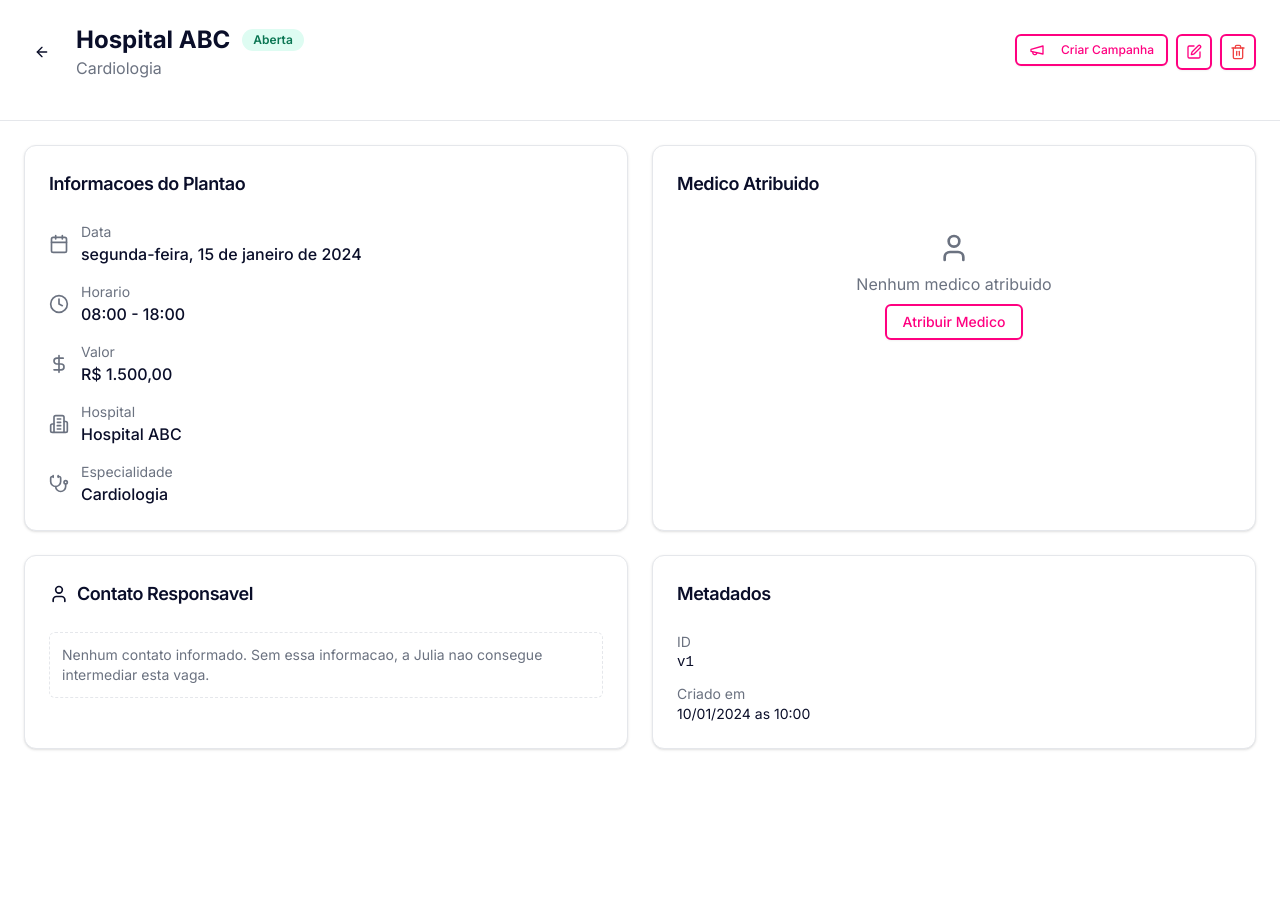
Test case: ShiftDetailPage › deve abrir dialog de atribuir medico
The image size is (1280, 900).
Click the button "Atribuir Medico".
click(954, 322)  # box [884,304,1023,340]
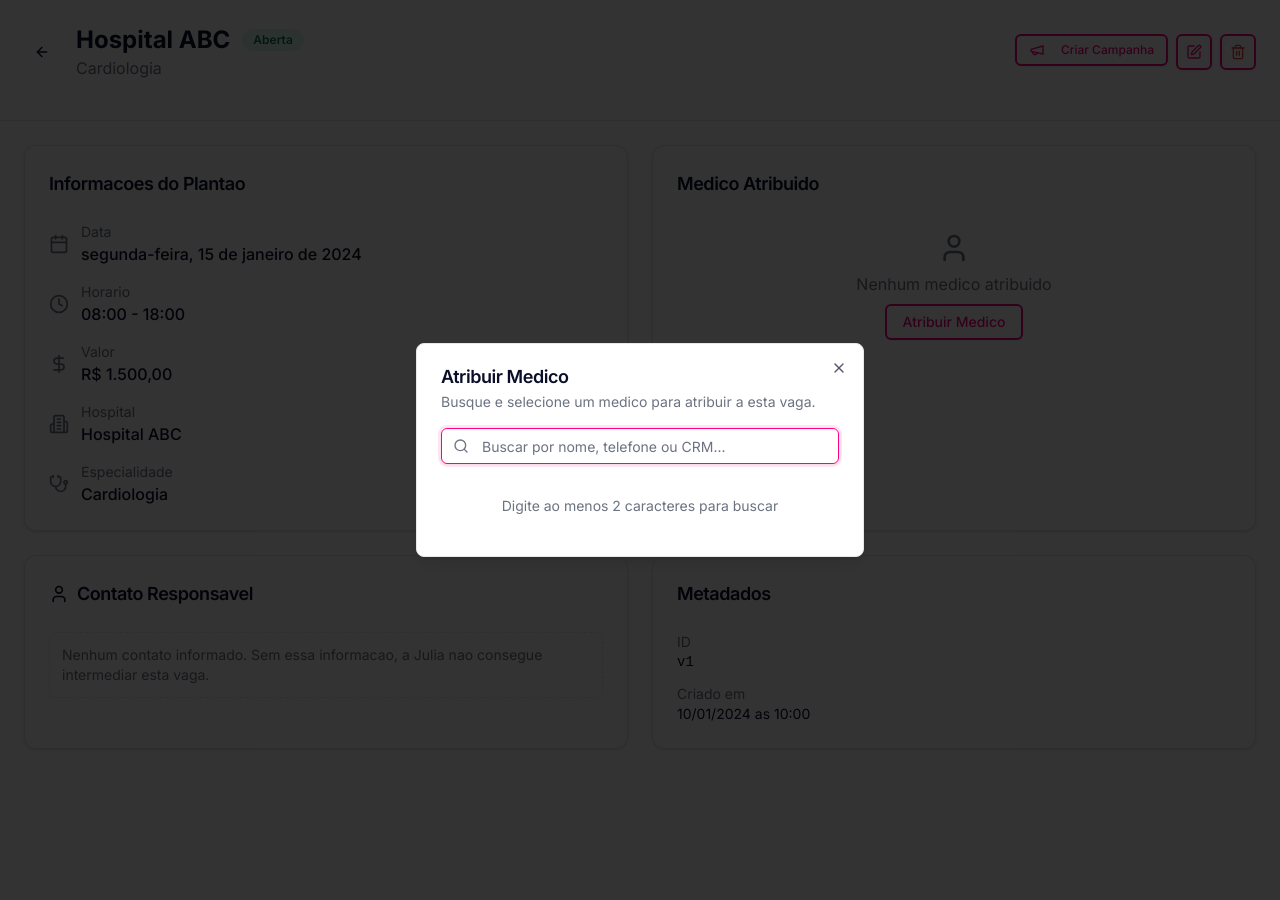
Now the dialog is shown, box [416,343,864,557]
